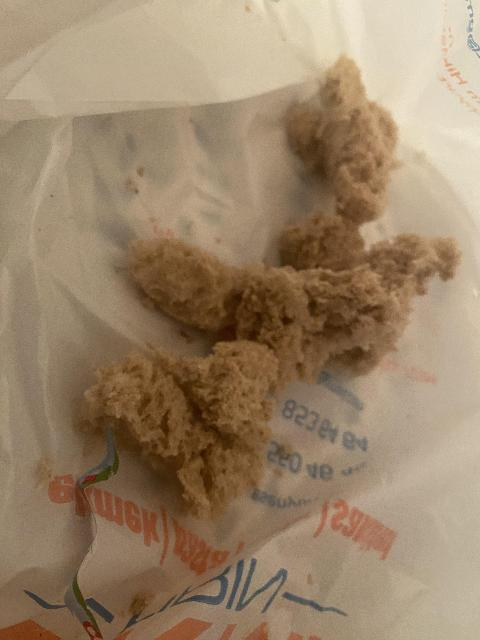Organik: (143, 238, 452, 351), (95, 378, 276, 503), (294, 63, 392, 200), (178, 321, 284, 414), (284, 227, 363, 273)
